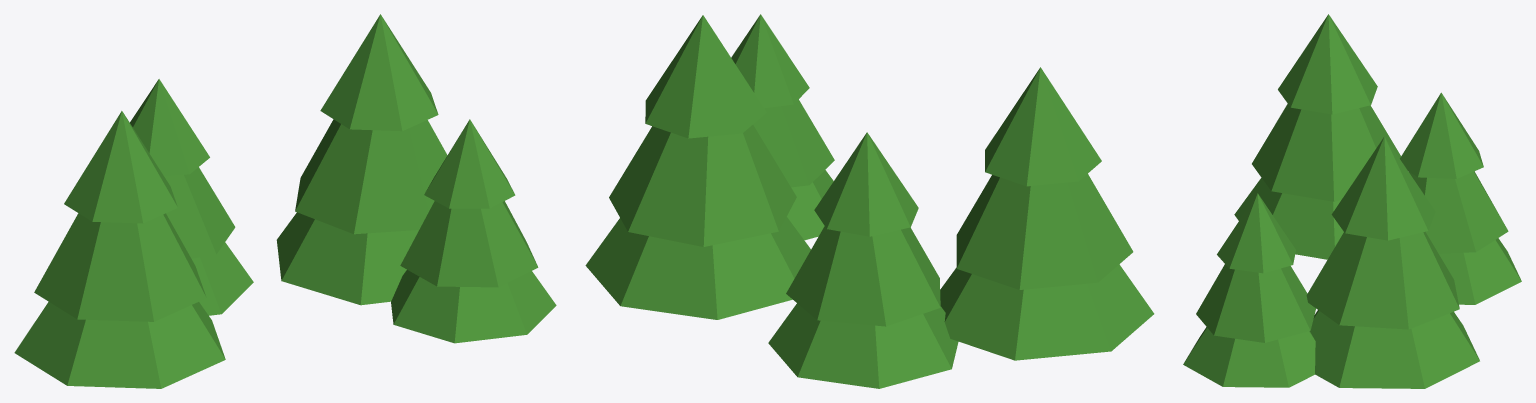
Rendered from grove.glb.
3 renders of one model, left to right at view 1: azimuth 30°, elevation 25°; view 2: azimuth 150°, elevation 25°; view 3: azimuth 270°, elevation 25°, orthographic. The views are drawn at different scales.
Parts seen in each view (by area): view 1: 2 Tree, 3 Tree, 4, 1 Tree; view 2: 3 Tree, 2 Tree, 1 Tree, 4; view 3: 3 Tree, 2 Tree, 4, 1 Tree.
Boxes of the visible parts, x1,y1,x2,y2 form: 2 Tree: [14, 111, 225, 388]; 3 Tree: [276, 14, 447, 305]; 4: [391, 119, 556, 343]; 1 Tree: [130, 79, 253, 315]; 3 Tree: [585, 15, 810, 319]; 2 Tree: [940, 67, 1154, 360]; 1 Tree: [768, 132, 958, 388]; 4: [731, 14, 834, 240]; 3 Tree: [1306, 136, 1479, 388]; 2 Tree: [1234, 14, 1400, 259]; 4: [1183, 193, 1315, 387]; 1 Tree: [1400, 92, 1521, 304].
Bounding box in the file's own units: 18.81 × 9.53 × 13.47.
